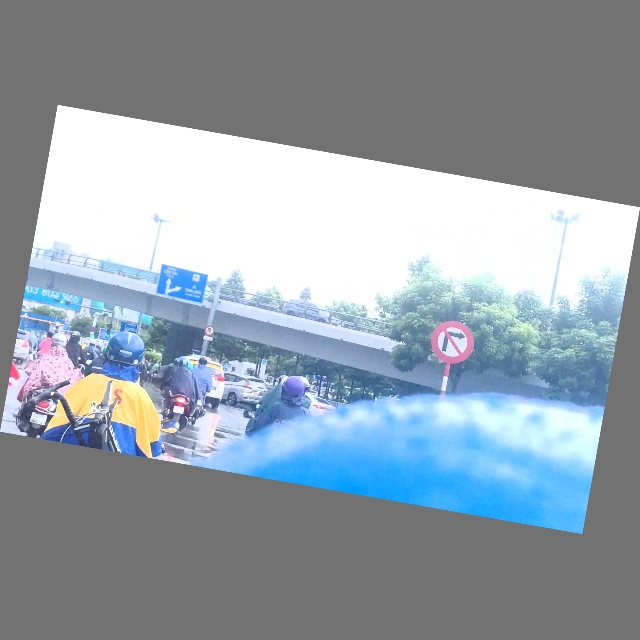P.123b: (427, 318, 478, 368)
P.124b1: (204, 325, 215, 337)
